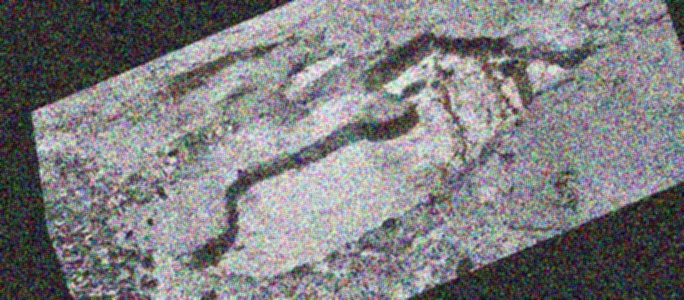pothole: (134, 0, 639, 300), (159, 26, 293, 102), (271, 43, 356, 106)
